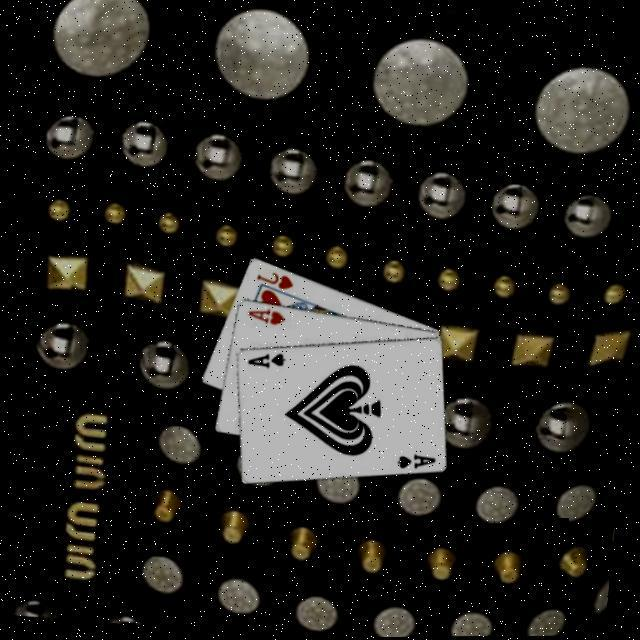AH: (244, 302, 288, 326)
AS: (393, 448, 439, 472), (244, 345, 288, 370)
JH: (252, 265, 296, 291)
